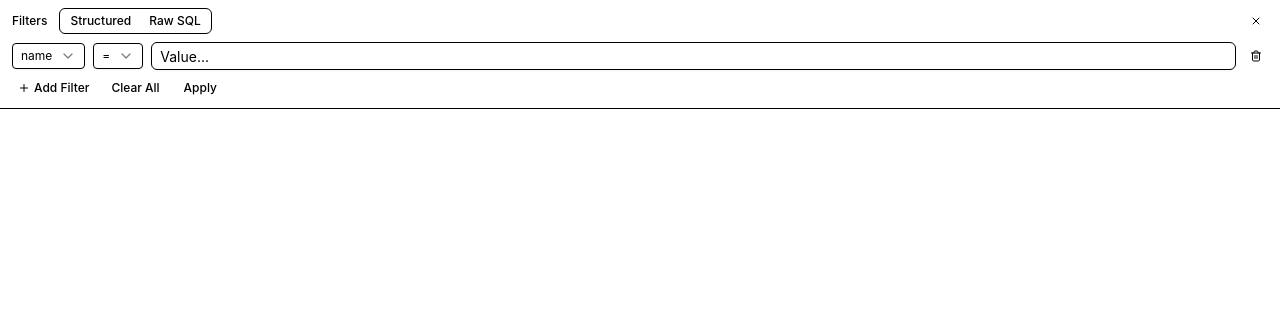
it: FilterBar operator list follows the connected dialect (#2430) › hides ILIKE on MySQL, which has no such operator
Click the dropdown named "Filter operator": (118, 56) [93,43,143,69]
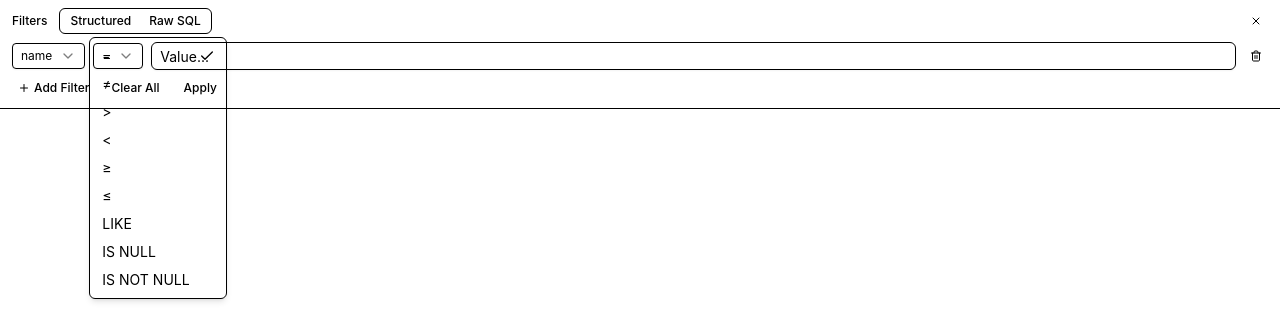
Expected: the option "LIKE" is shown, [102,215,132,232]
Expected: the option "IS NULL" is shown, [102,243,156,260]
